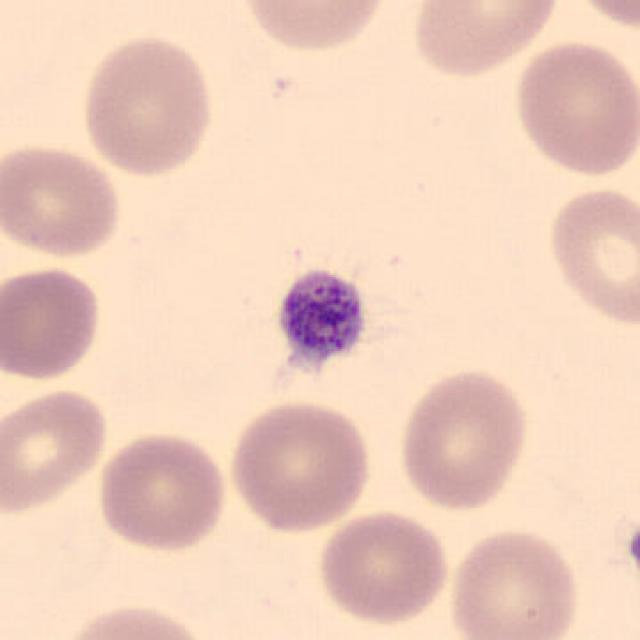Platelets: (258, 259, 377, 400), (624, 516, 640, 582)
RBC: (224, 395, 377, 536), (76, 30, 218, 180), (395, 365, 533, 515), (508, 37, 638, 180), (93, 427, 231, 555), (313, 506, 453, 628), (444, 523, 584, 640), (0, 138, 128, 262), (0, 382, 112, 518), (542, 182, 640, 330), (0, 263, 105, 384), (405, 0, 563, 79), (237, 0, 391, 55), (54, 599, 212, 640), (562, 0, 640, 33)
